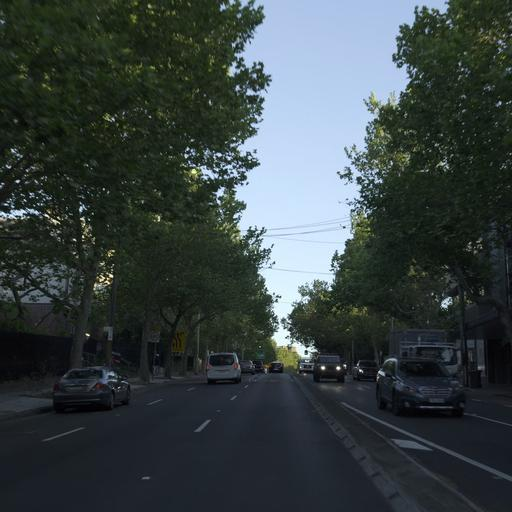Street light: (446, 282, 469, 387)
